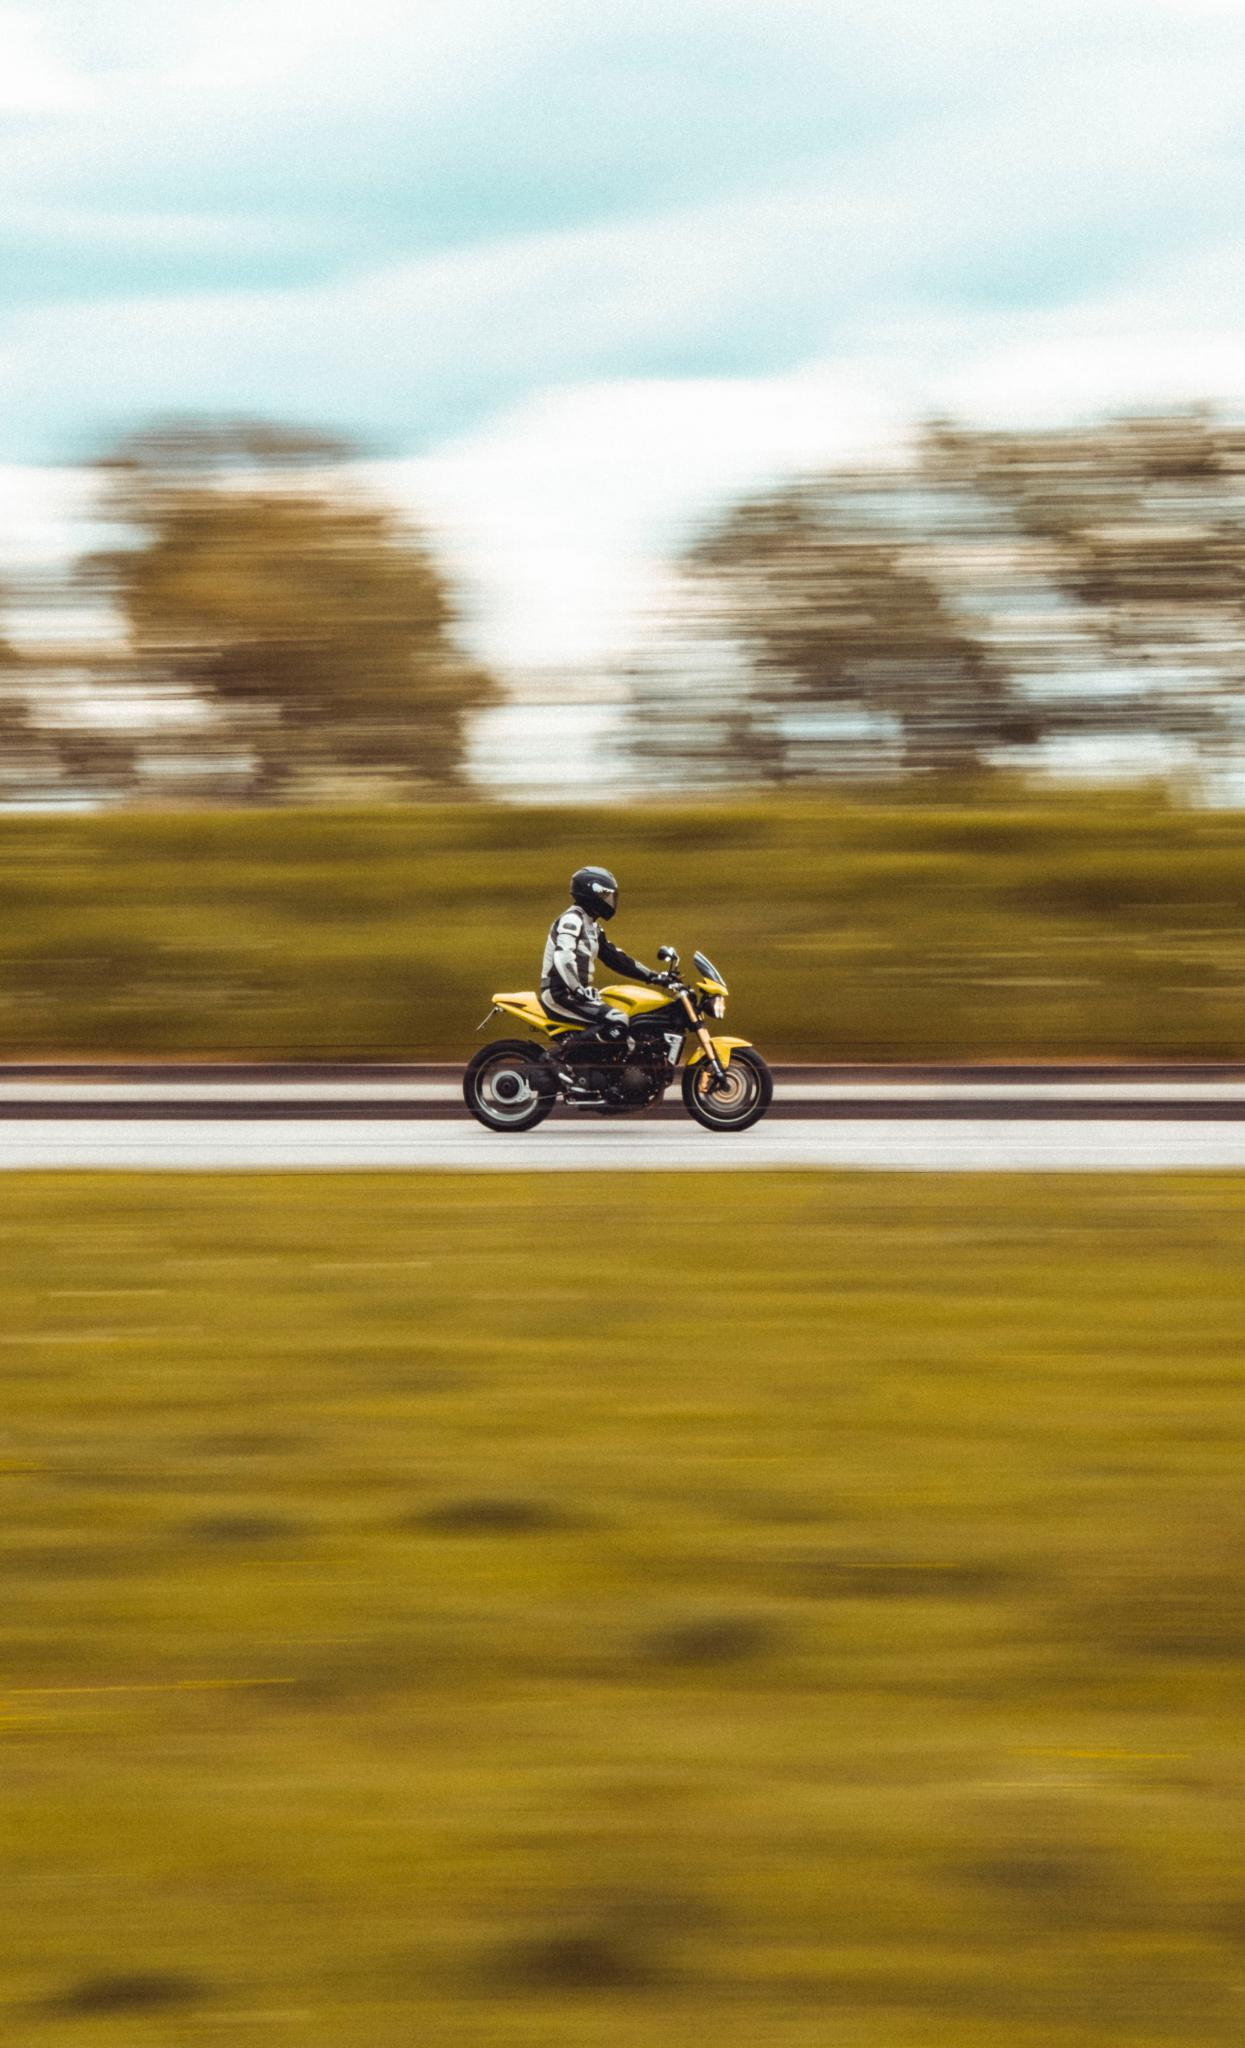motorcycle: (456, 930, 778, 1145)
